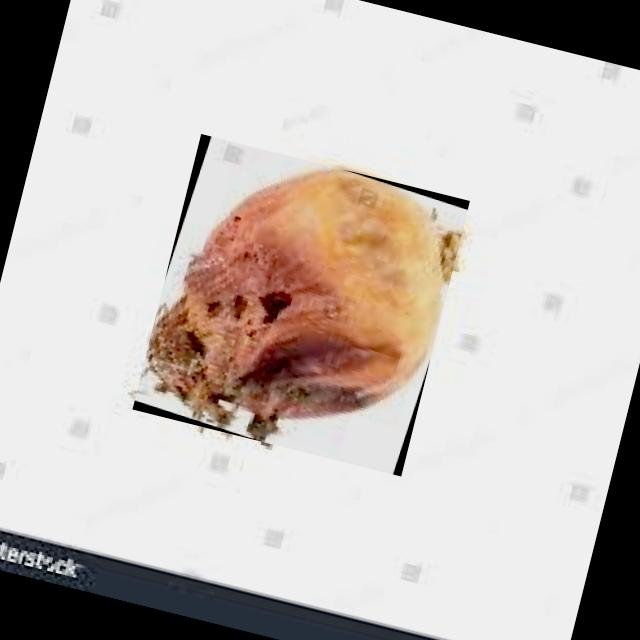rotten: (144, 167, 460, 441)
